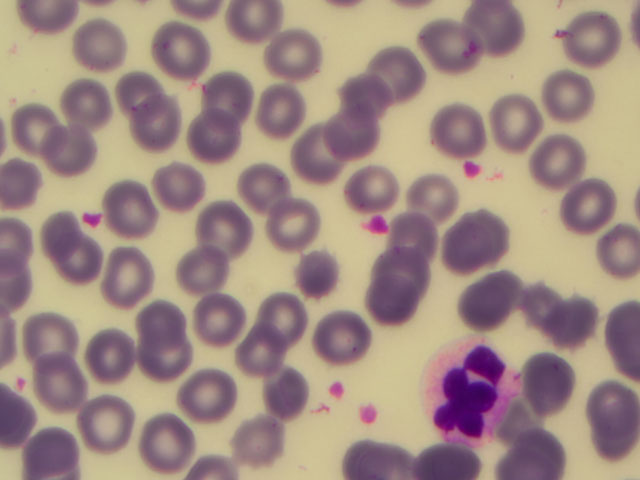Platelets: (358, 403, 382, 428), (362, 213, 387, 237), (462, 158, 487, 180), (326, 379, 350, 401), (84, 210, 102, 229)
RBC: (68, 17, 133, 75), (58, 70, 123, 128), (2, 102, 67, 160), (39, 125, 104, 183), (19, 206, 84, 264), (43, 238, 108, 296), (94, 249, 159, 307), (100, 178, 165, 236), (146, 161, 211, 219), (127, 101, 192, 159), (120, 65, 185, 123), (151, 12, 216, 70), (200, 60, 265, 118), (184, 102, 249, 160), (245, 86, 310, 144), (261, 19, 326, 77), (236, 155, 301, 213), (189, 191, 254, 249), (177, 241, 242, 299), (188, 288, 253, 346), (128, 288, 193, 346), (131, 335, 196, 393), (72, 323, 137, 381), (30, 364, 95, 422), (20, 303, 85, 361), (18, 422, 83, 480), (76, 390, 141, 448), (133, 411, 198, 469), (180, 372, 245, 430), (250, 362, 315, 420), (220, 416, 285, 474), (227, 331, 292, 389), (250, 286, 315, 344), (279, 247, 344, 305), (267, 198, 332, 256), (365, 276, 430, 334), (376, 241, 441, 299), (386, 206, 451, 264), (407, 172, 472, 230), (345, 152, 410, 210), (291, 130, 356, 188), (327, 110, 392, 168), (328, 73, 393, 131), (370, 43, 435, 101), (422, 21, 487, 79), (474, 3, 539, 61), (560, 4, 625, 62), (539, 57, 604, 115), (485, 91, 550, 149), (432, 91, 497, 149), (521, 121, 586, 179), (550, 173, 615, 231), (575, 223, 640, 281), (541, 285, 606, 343), (512, 280, 577, 338), (452, 279, 517, 337), (478, 255, 543, 313), (441, 216, 506, 274), (575, 371, 640, 429), (520, 354, 585, 412), (508, 422, 573, 480), (331, 436, 414, 480)
WBC: (425, 338, 525, 451)
